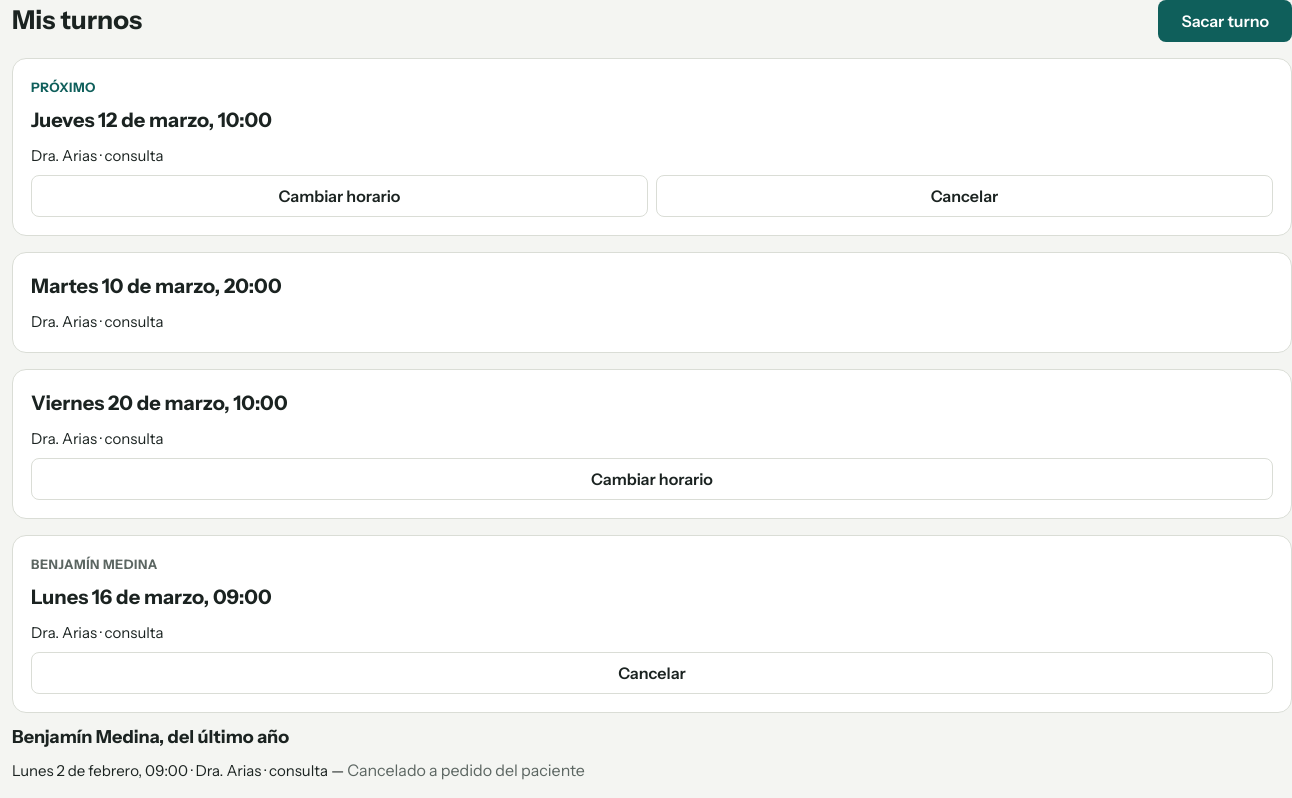
Test: Mis turnos › cancels one, says so and reads them again; a refusal is said
Click the 1st button "Cancelar".
click(964, 196)  # box [656,175,1273,217]
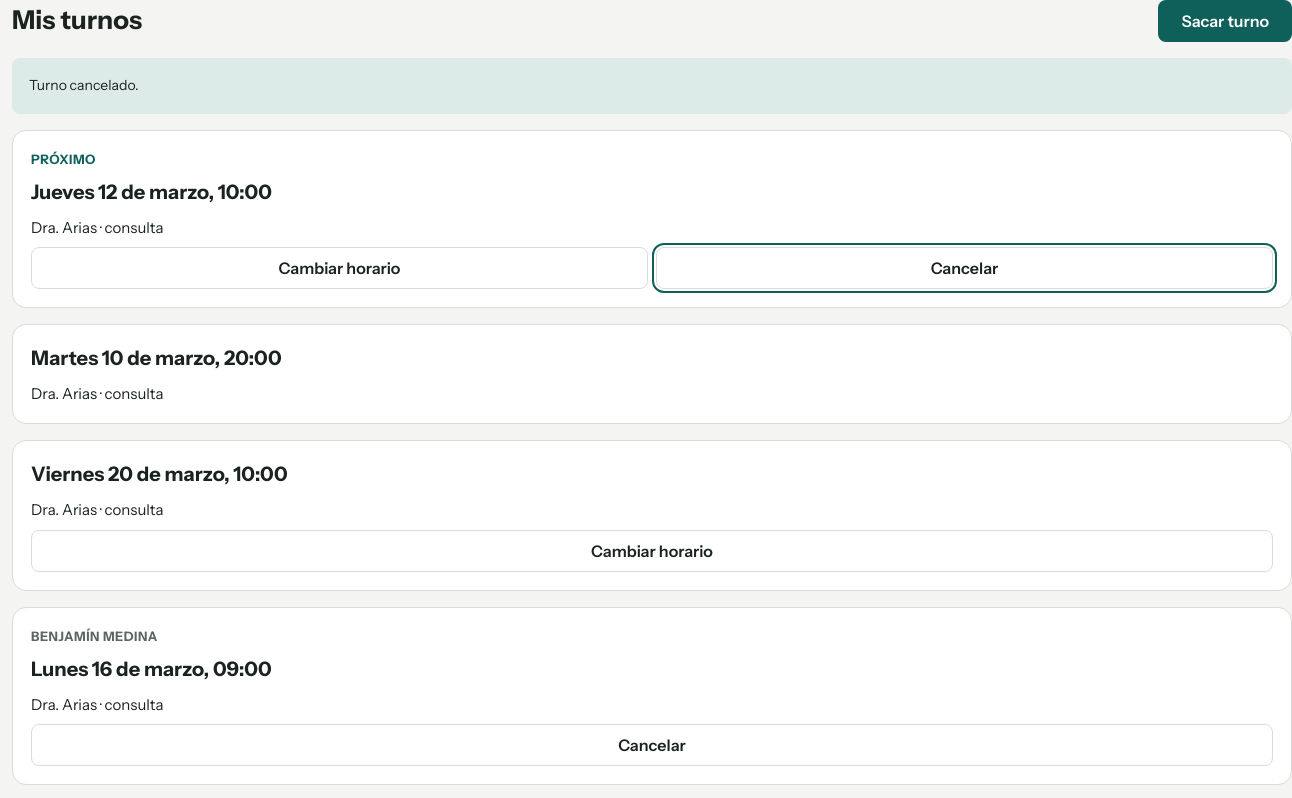
Result: the message reads "Turno cancelado." at [29,76,139,94]
Click the button "Cancelar" below "Lunes 16 de marzo, 09:00".
click(652, 745)  # box [31,724,1273,766]
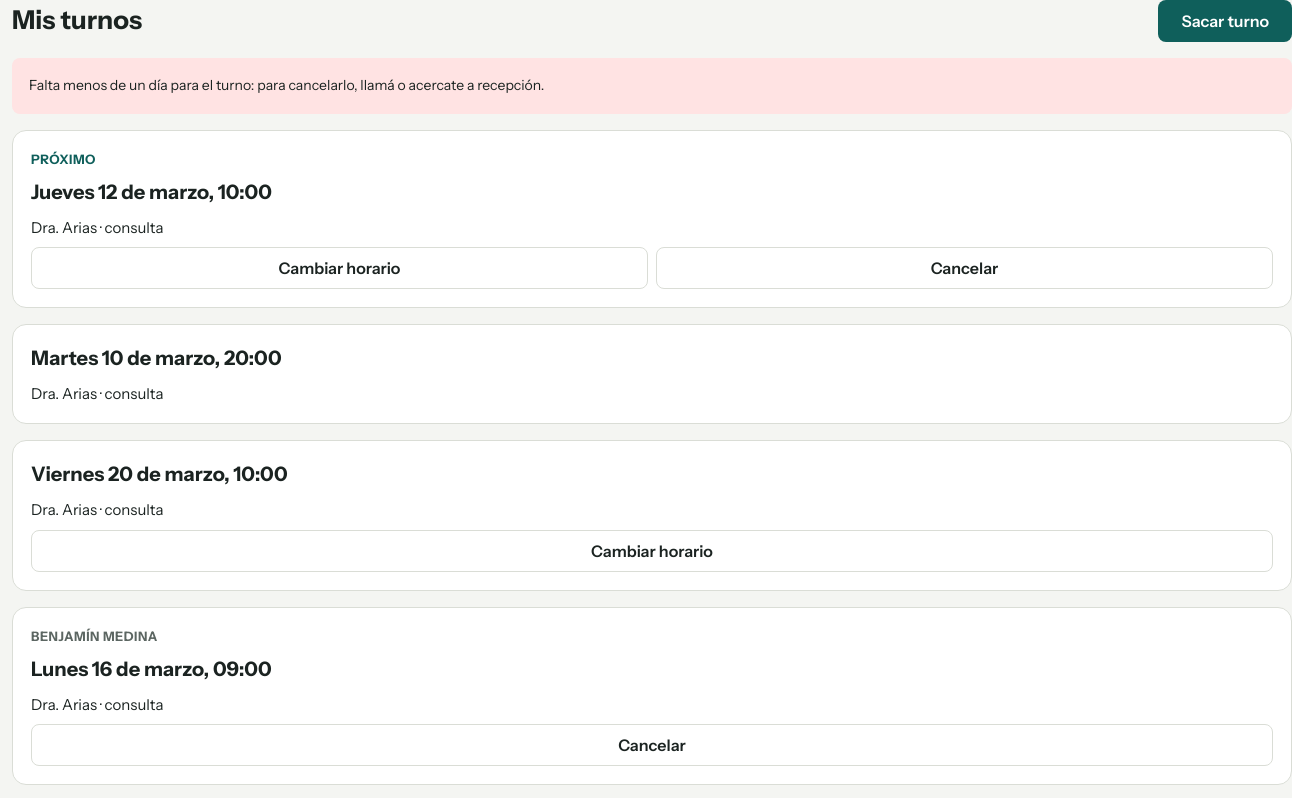
Result: the message shows "Falta menos de un día para el turno" at [29,76,544,94]
